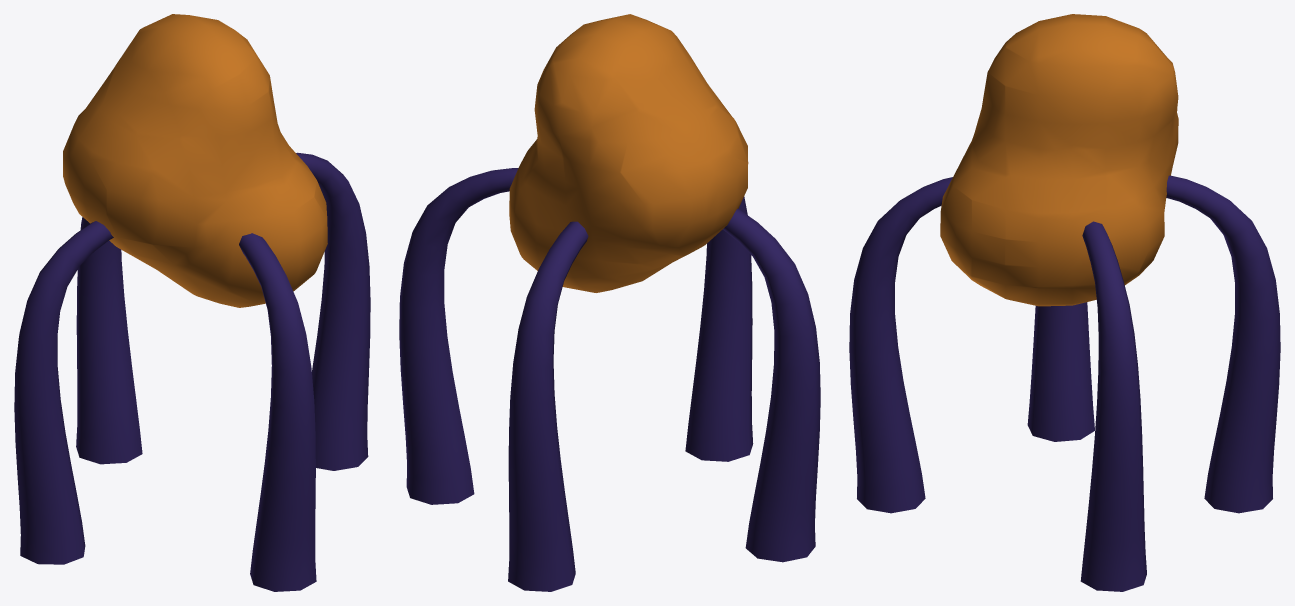
Rendered from tree-blob-1.glb.
The picture shows the model from 3 angles, left to right: view 1: azimuth 30°, elevation 25°; view 2: azimuth 150°, elevation 25°; view 3: azimuth 270°, elevation 25°; orthographic projection. The views are drawn at different scales.
Parts seen in each view (by area): view 1: Tree_Blob_3; view 2: Tree_Blob_3; view 3: Tree_Blob_3.
Part boxes in pixels (x1=…): Tree_Blob_3: x1=14, y1=14, x2=370, y2=591; Tree_Blob_3: x1=399, y1=14, x2=820, y2=591; Tree_Blob_3: x1=849, y1=14, x2=1280, y2=591.
Bounding box in the file's own units: 2.8 × 3.42 × 2.77.
Materials: 1 (1 with a texture image).
